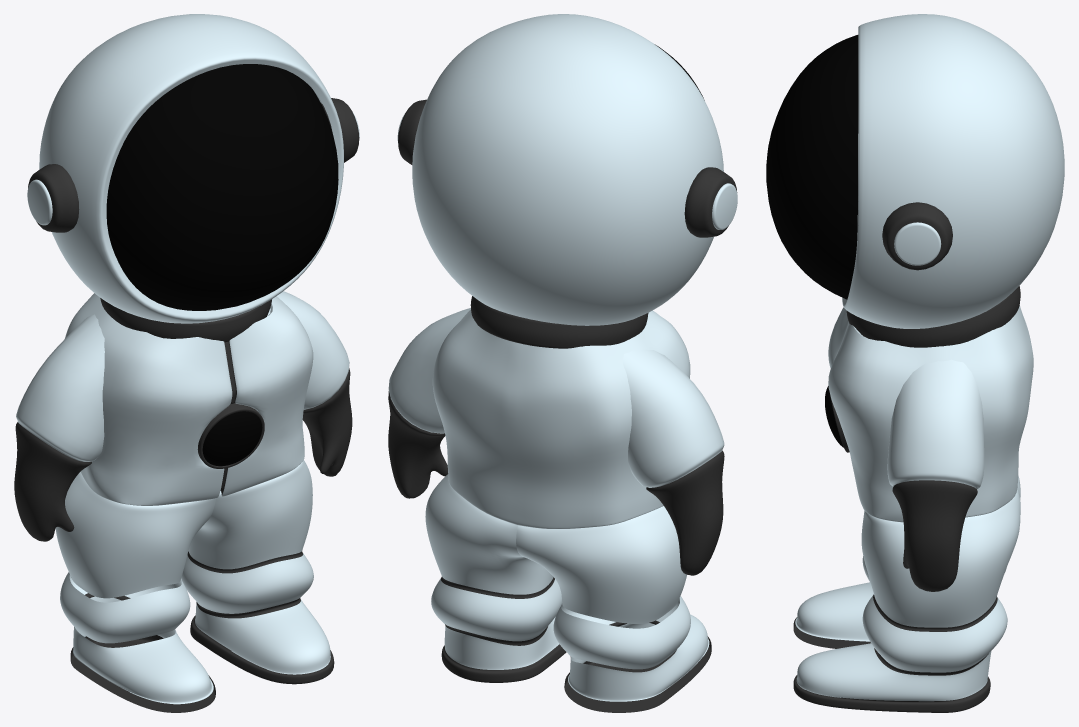
File: astronaut1.glb
The picture shows the model from 3 angles, left to right: view 1: azimuth 30°, elevation 25°; view 2: azimuth 150°, elevation 25°; view 3: azimuth 270°, elevation 25°; orthographic projection. The views are drawn at different scales.
Parts seen in each view (by area): view 1: Head.001, Body, Head, Leg_R, Leg_L, Arm_R, Arm_R.001, Arm_L, Arm_L.001, Body.001, Sphere, Head.003 (+6 smaller); view 2: Head, Body, Leg_R, Leg_L, Arm_R, Arm_R.001, Arm_L, Body.001, Arm_L.001, Leg_R.001, Head.003, Leg_L.001 (+3 smaller); view 3: Head, Leg_L, Body, Head.001, Arm_L, Arm_L.001, Body.001, Leg_R, Leg_L.001, Head.002, Head.004, Leg_L.002 (+1 smaller).
Part boxes in pixels (box(x1,y1,x2,y2)): Head.001: box(106, 64, 338, 310); Body: box(65, 293, 313, 505); Head: box(39, 14, 343, 323); Leg_R: box(55, 472, 216, 704); Leg_L: box(181, 460, 330, 674); Arm_R: box(16, 314, 104, 461); Arm_R.001: box(14, 422, 91, 541); Arm_L: box(267, 291, 349, 409); Arm_L.001: box(302, 368, 352, 476); Body.001: box(100, 298, 271, 342); Sphere: box(202, 411, 262, 466); Head.003: box(28, 164, 79, 232); Head: box(412, 14, 723, 325); Body: box(432, 310, 690, 528); Leg_R: box(516, 506, 709, 701); Leg_L: box(425, 474, 562, 669); Arm_R: box(622, 349, 724, 487); Arm_R.001: box(646, 451, 724, 575); Arm_L: box(388, 308, 470, 433); Body.001: box(470, 296, 647, 348); Arm_L.001: box(388, 391, 448, 498); Leg_R.001: box(564, 636, 711, 712); Head.003: box(684, 167, 737, 237); Leg_L.001: box(441, 644, 566, 682); Head: box(842, 14, 1064, 328); Leg_L: box(796, 488, 1020, 701); Body: box(828, 305, 1033, 522); Head.001: box(766, 35, 858, 299); Arm_L: box(887, 359, 984, 489); Arm_L.001: box(892, 480, 977, 591); Body.001: box(846, 286, 1020, 347); Leg_R: box(795, 476, 1020, 641); Leg_L.001: box(793, 675, 990, 712); Head.002: box(882, 202, 952, 270); Head.004: box(894, 222, 941, 265); Leg_L.002: box(873, 594, 997, 675).
Bounding box in the file's own units: 1.56 × 2.89 × 1.24.
